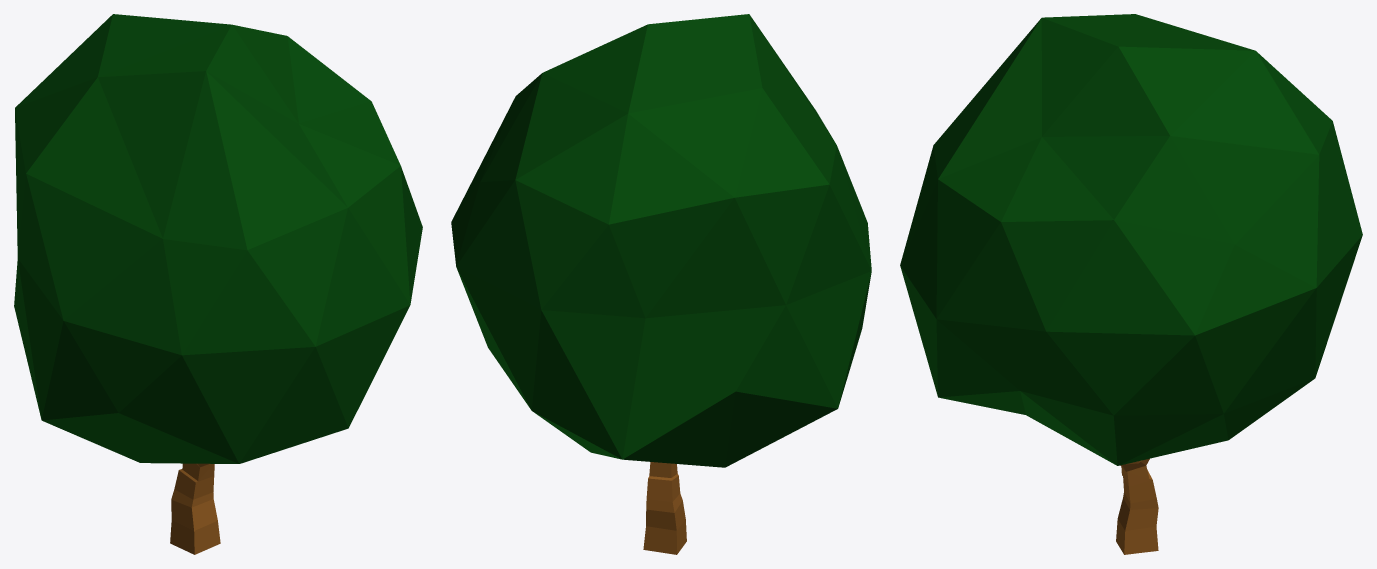
The model's file is RW_bush_standard_2.fbx.
3 renders of one model, left to right at view 1: azimuth 30°, elevation 25°; view 2: azimuth 150°, elevation 25°; view 3: azimuth 270°, elevation 25°, orthographic. The views are drawn at different scales.
Parts seen in each view (by area): view 1: Cube.108; view 2: Cube.108; view 3: Cube.108.
Boxes of the visible parts, x1,y1,x2,y2 form: Cube.108: (14,14,422,554); Cube.108: (451,14,871,554); Cube.108: (900,14,1362,554).
Bounding box in the file's own units: 1.93 × 2.66 × 2.17.
